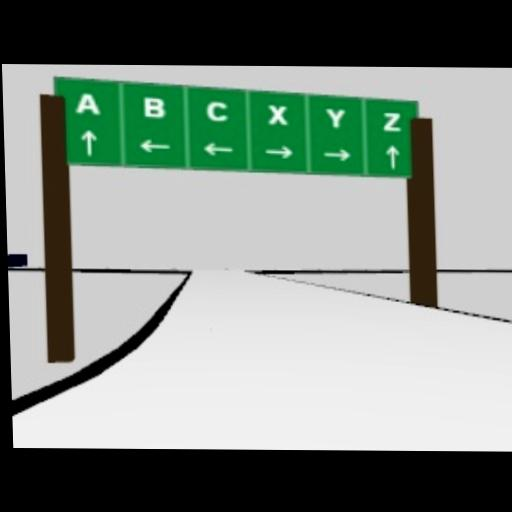A: (74, 91, 100, 114)
B: (141, 96, 165, 117)
C: (205, 99, 227, 120)
Left: (199, 140, 234, 157), (137, 138, 171, 152)
Right: (264, 144, 295, 158), (321, 148, 350, 161)
Straight: (80, 128, 97, 155), (385, 145, 400, 168)
X: (267, 103, 288, 125)
Y: (325, 107, 346, 128)
Z: (381, 111, 402, 131)
